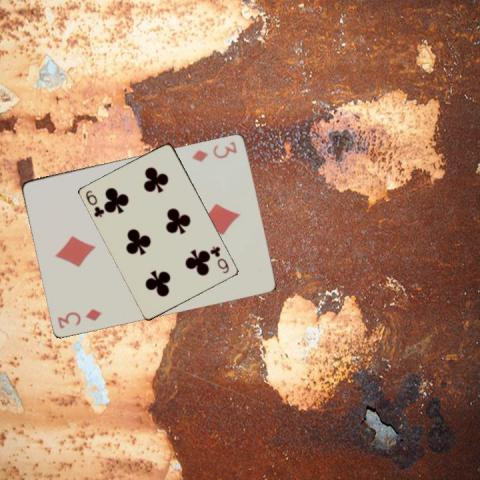3d: (189, 138, 239, 163), (54, 305, 103, 330)
6c: (208, 243, 231, 275), (83, 187, 106, 219)
